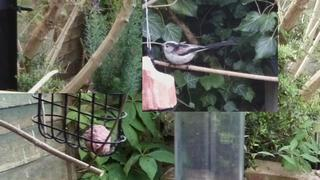long tailed tit: (160, 40, 238, 70)
